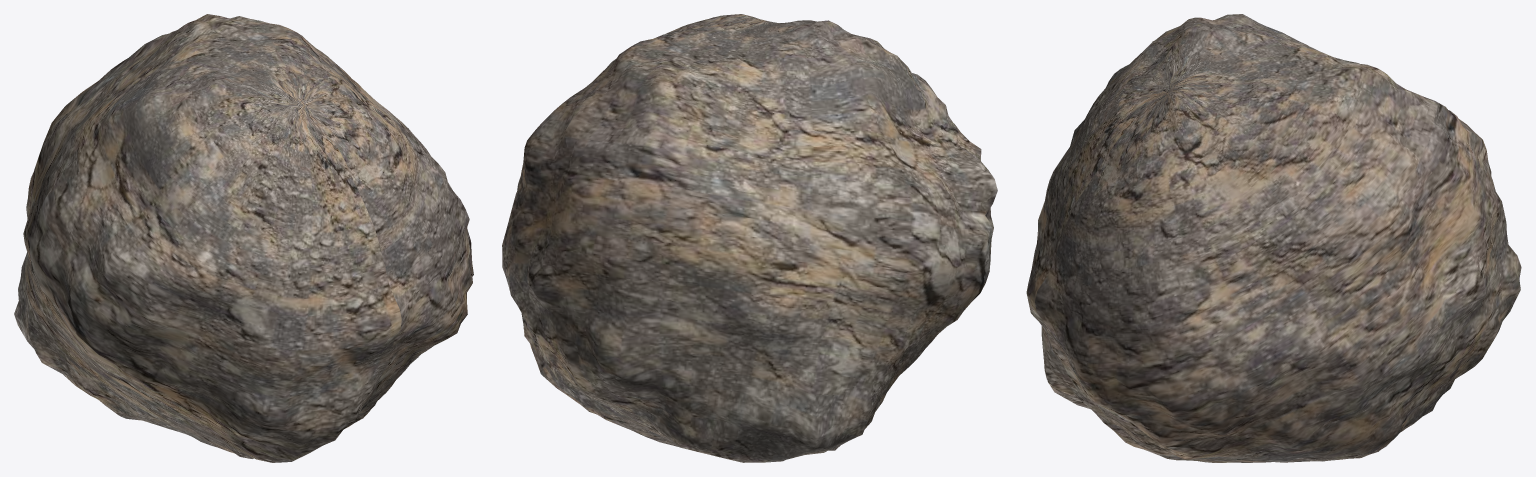
The model's file is Stein 4.fbx.
3 views of the same model, side by side, from view 1: azimuth 30°, elevation 25°; view 2: azimuth 150°, elevation 25°; view 3: azimuth 270°, elevation 25° (orthographic). The views are drawn at different scales.
Visible parts, largest first — view 1: Landscape.001; view 2: Landscape.001; view 3: Landscape.001.
Part boxes in pixels (<box>): Landscape.001: <box>14,14,473,462</box>; Landscape.001: <box>502,14,997,462</box>; Landscape.001: <box>1026,14,1521,462</box>.
Bounding box in the file's own units: 2.44 × 2.16 × 2.45.
